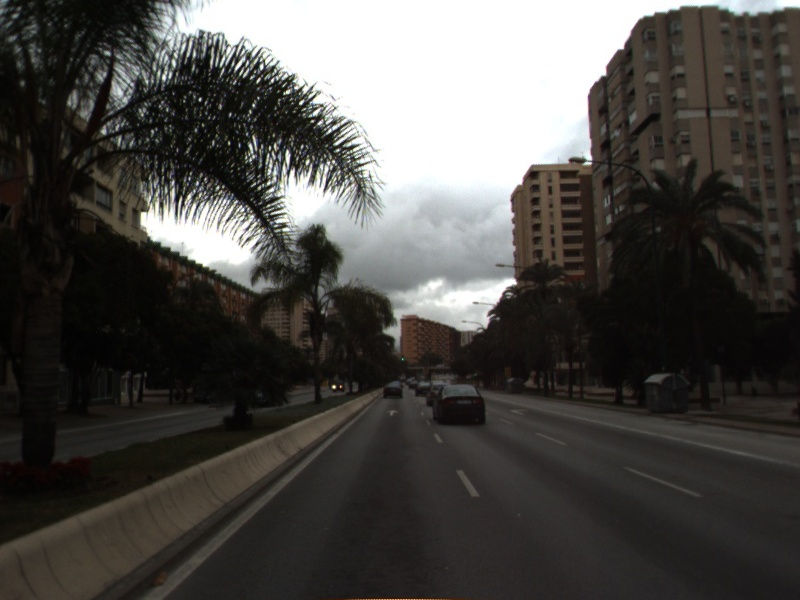RIGHT: (507, 406, 530, 418)
STRAIGHT: (384, 407, 402, 418)
